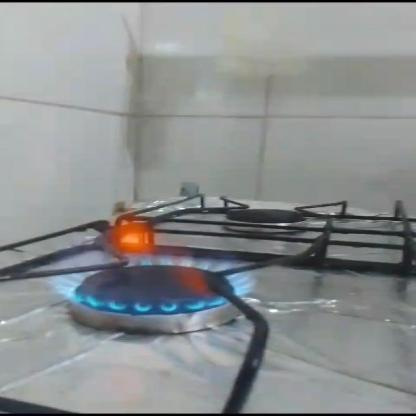fire: (56, 200, 255, 326)
